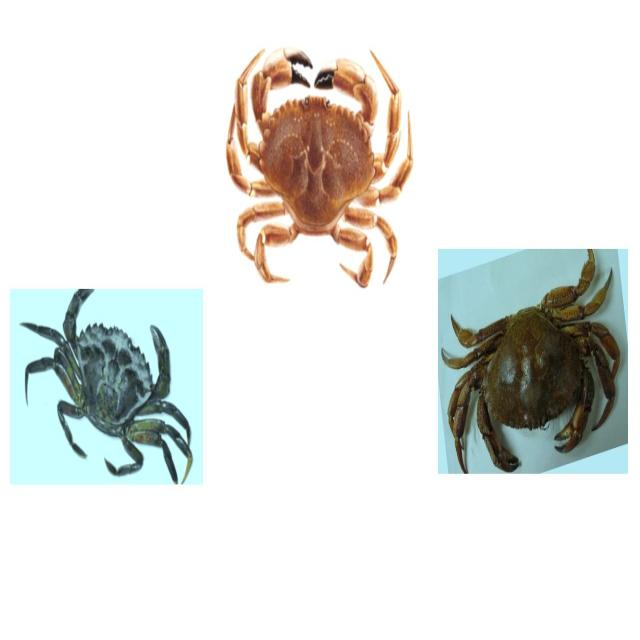egc: (10, 288, 202, 486)
jonah_crab: (234, 48, 416, 278)
rock_crab: (439, 246, 630, 478)
